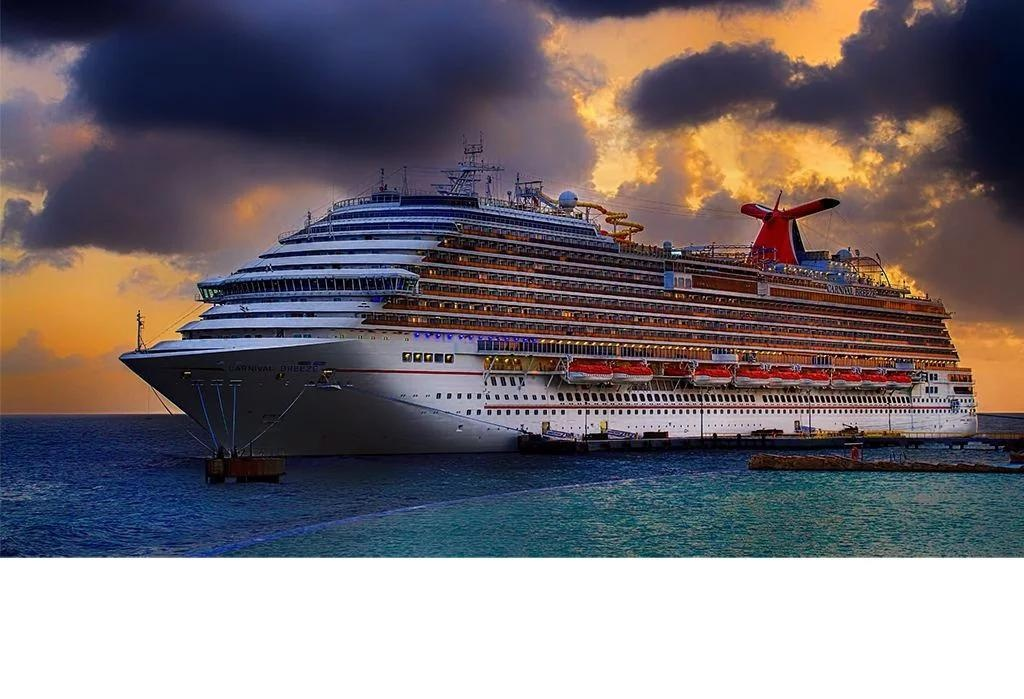youlun: (112, 150, 976, 476)
